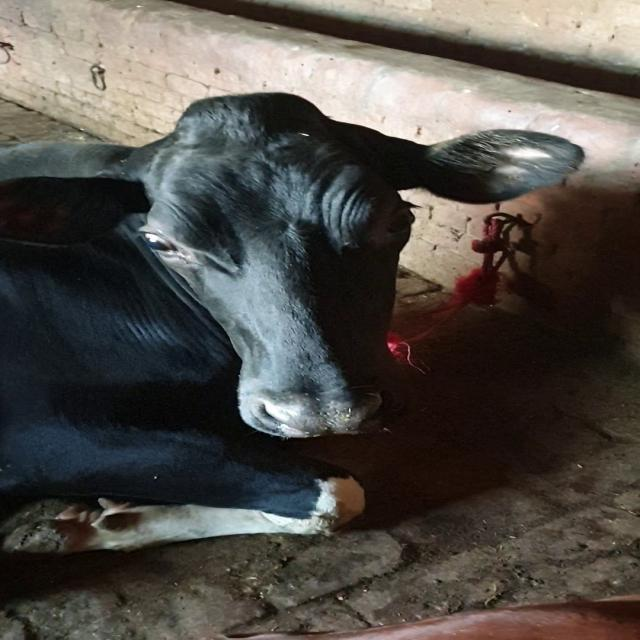cowFace: (120, 73, 413, 456)
